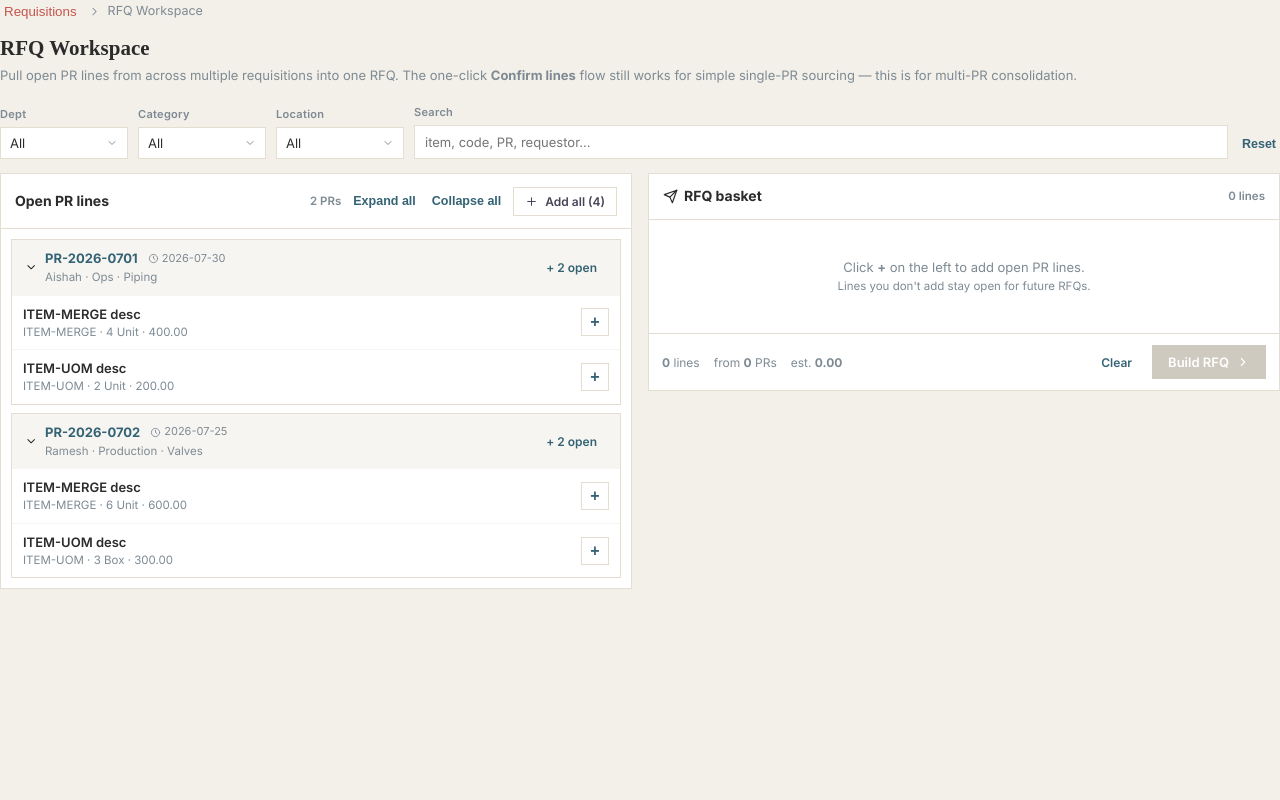
Consolidate Lines (Slice C) › D2/D4 — same item code + same UoM prompts Merge → one merged line with provenance
This screenshot has width=1280, height=800.
Click the button named "Add ITEM-MERGE from PR-2026-0701".
click(595, 322)  # box [581,308,609,336]
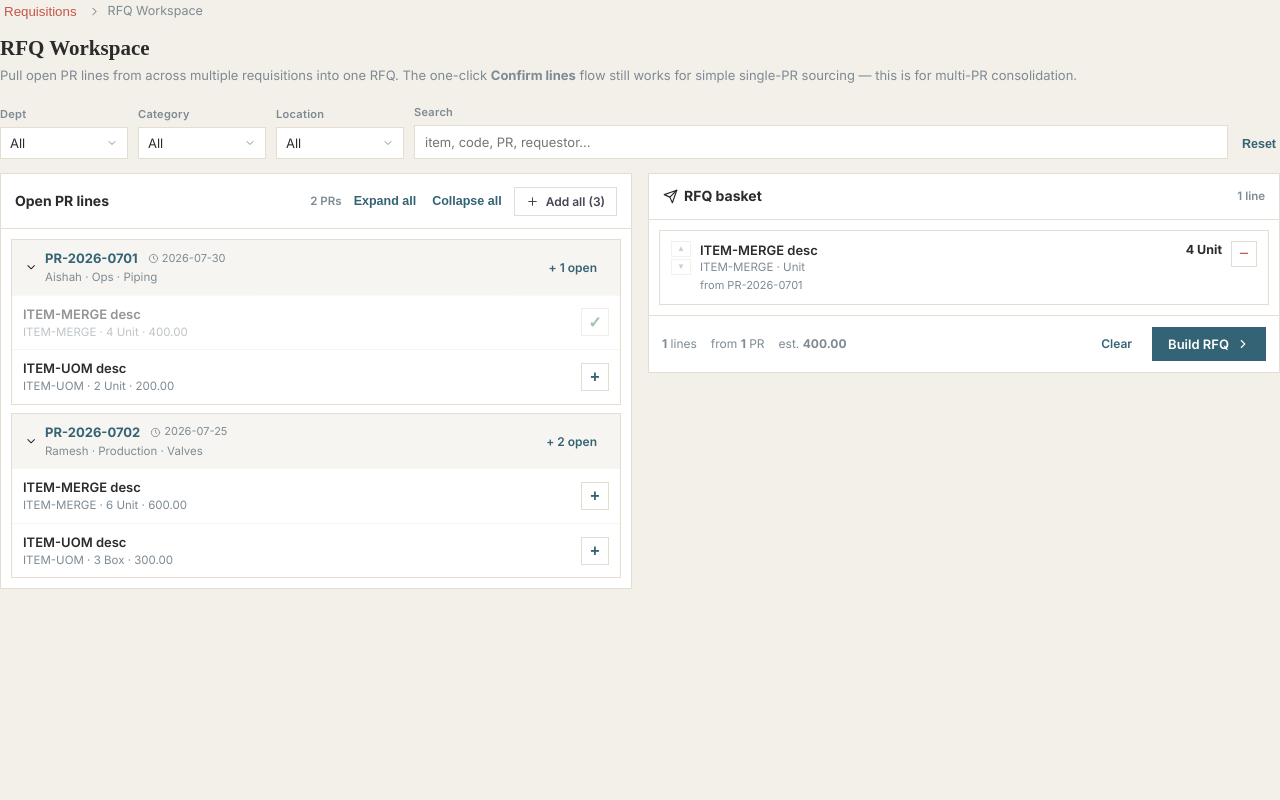
Click the button named "Add ITEM-MERGE from PR-2026-0702".
click(595, 496)  # box [581,482,609,510]
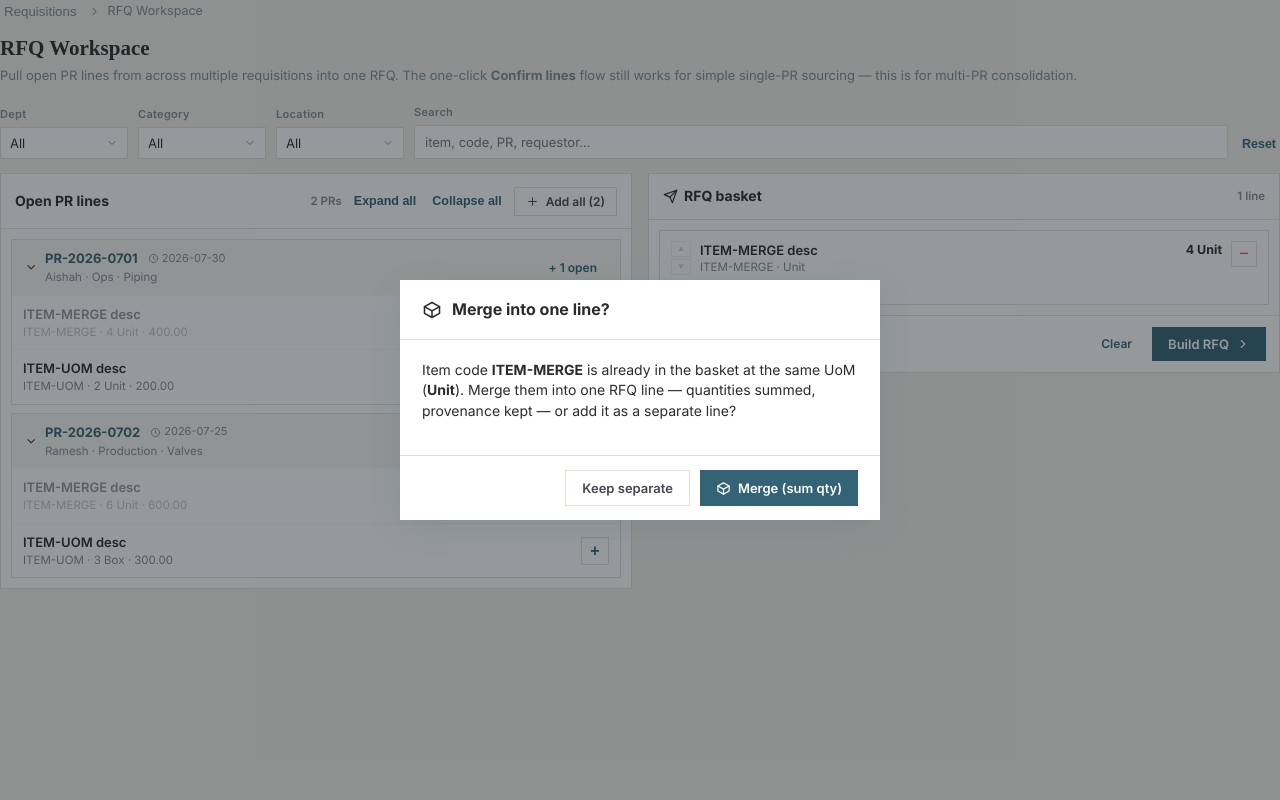
Expected: the dialog is shown
Expected: the heading "Merge into one line?" is shown, [452,298,610,321]
Click the button "Merge (sum qty)".
click(779, 488)  # box [700,470,858,506]
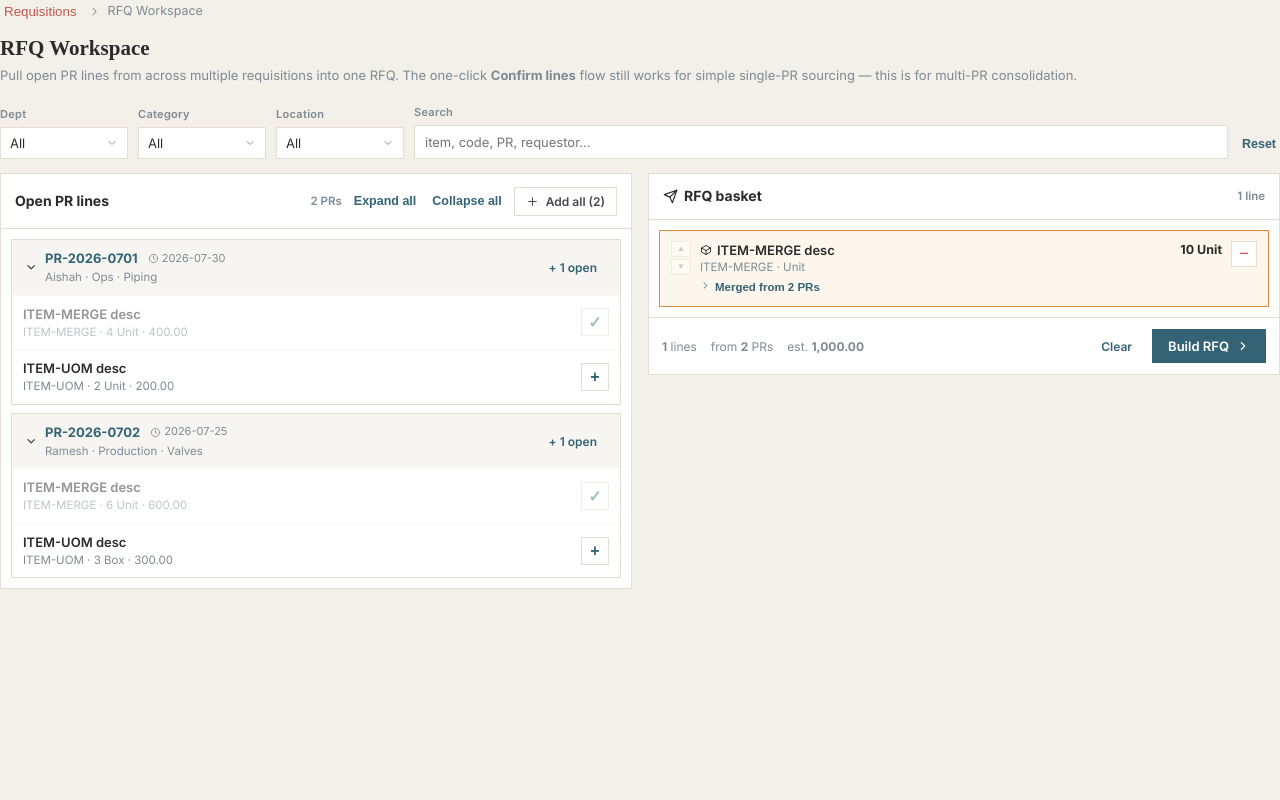
Expected: the button "Merged from 2 PRs" is shown, [700,278,820,293]
Expected: the text "10 Unit" is shown, [1180,240,1222,259]
